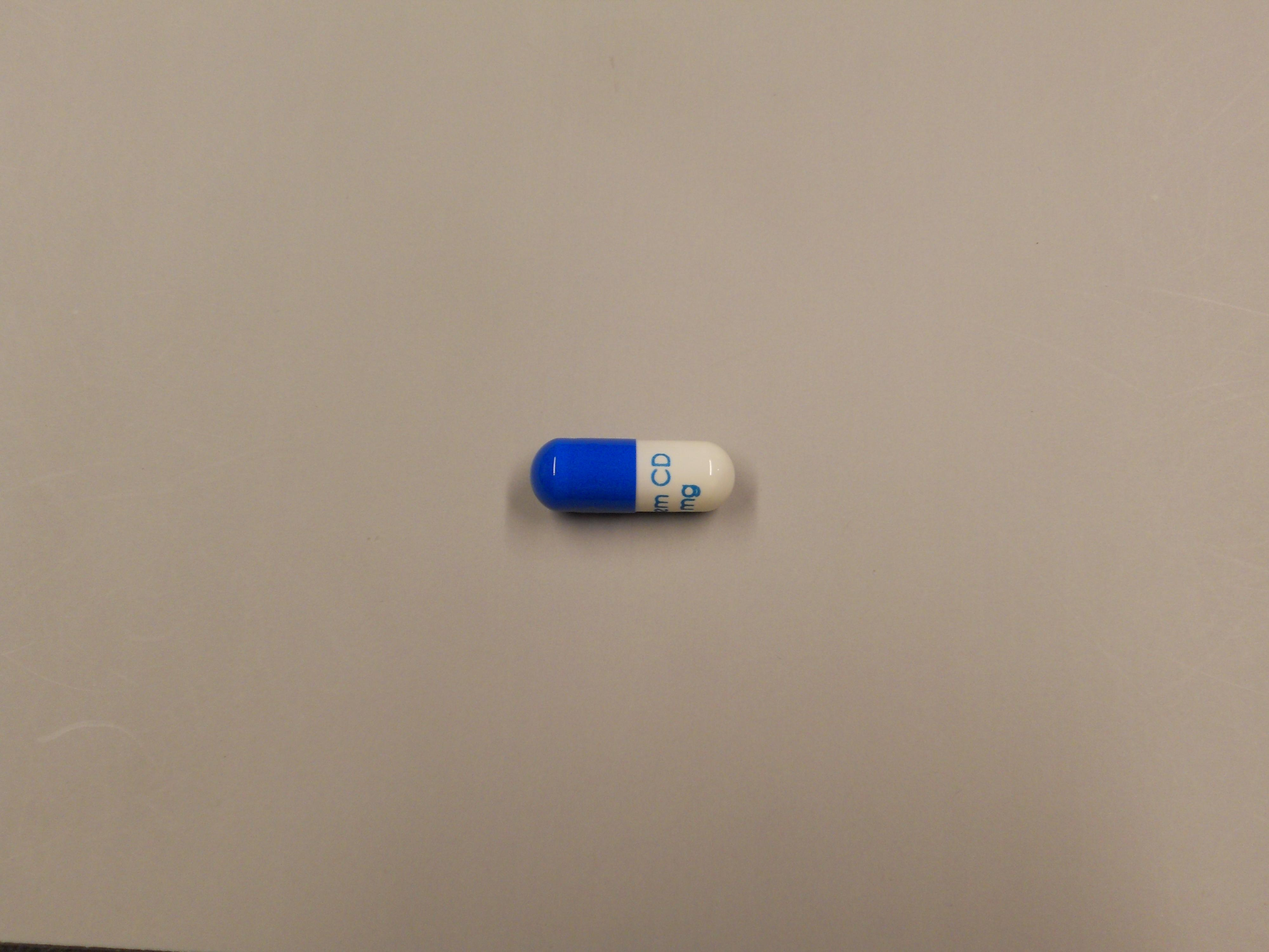Pill: (527, 430, 741, 520)
